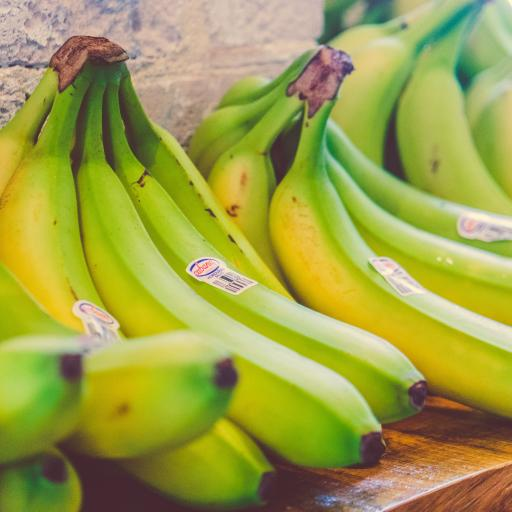banana-unripe: (0, 0, 512, 496)
